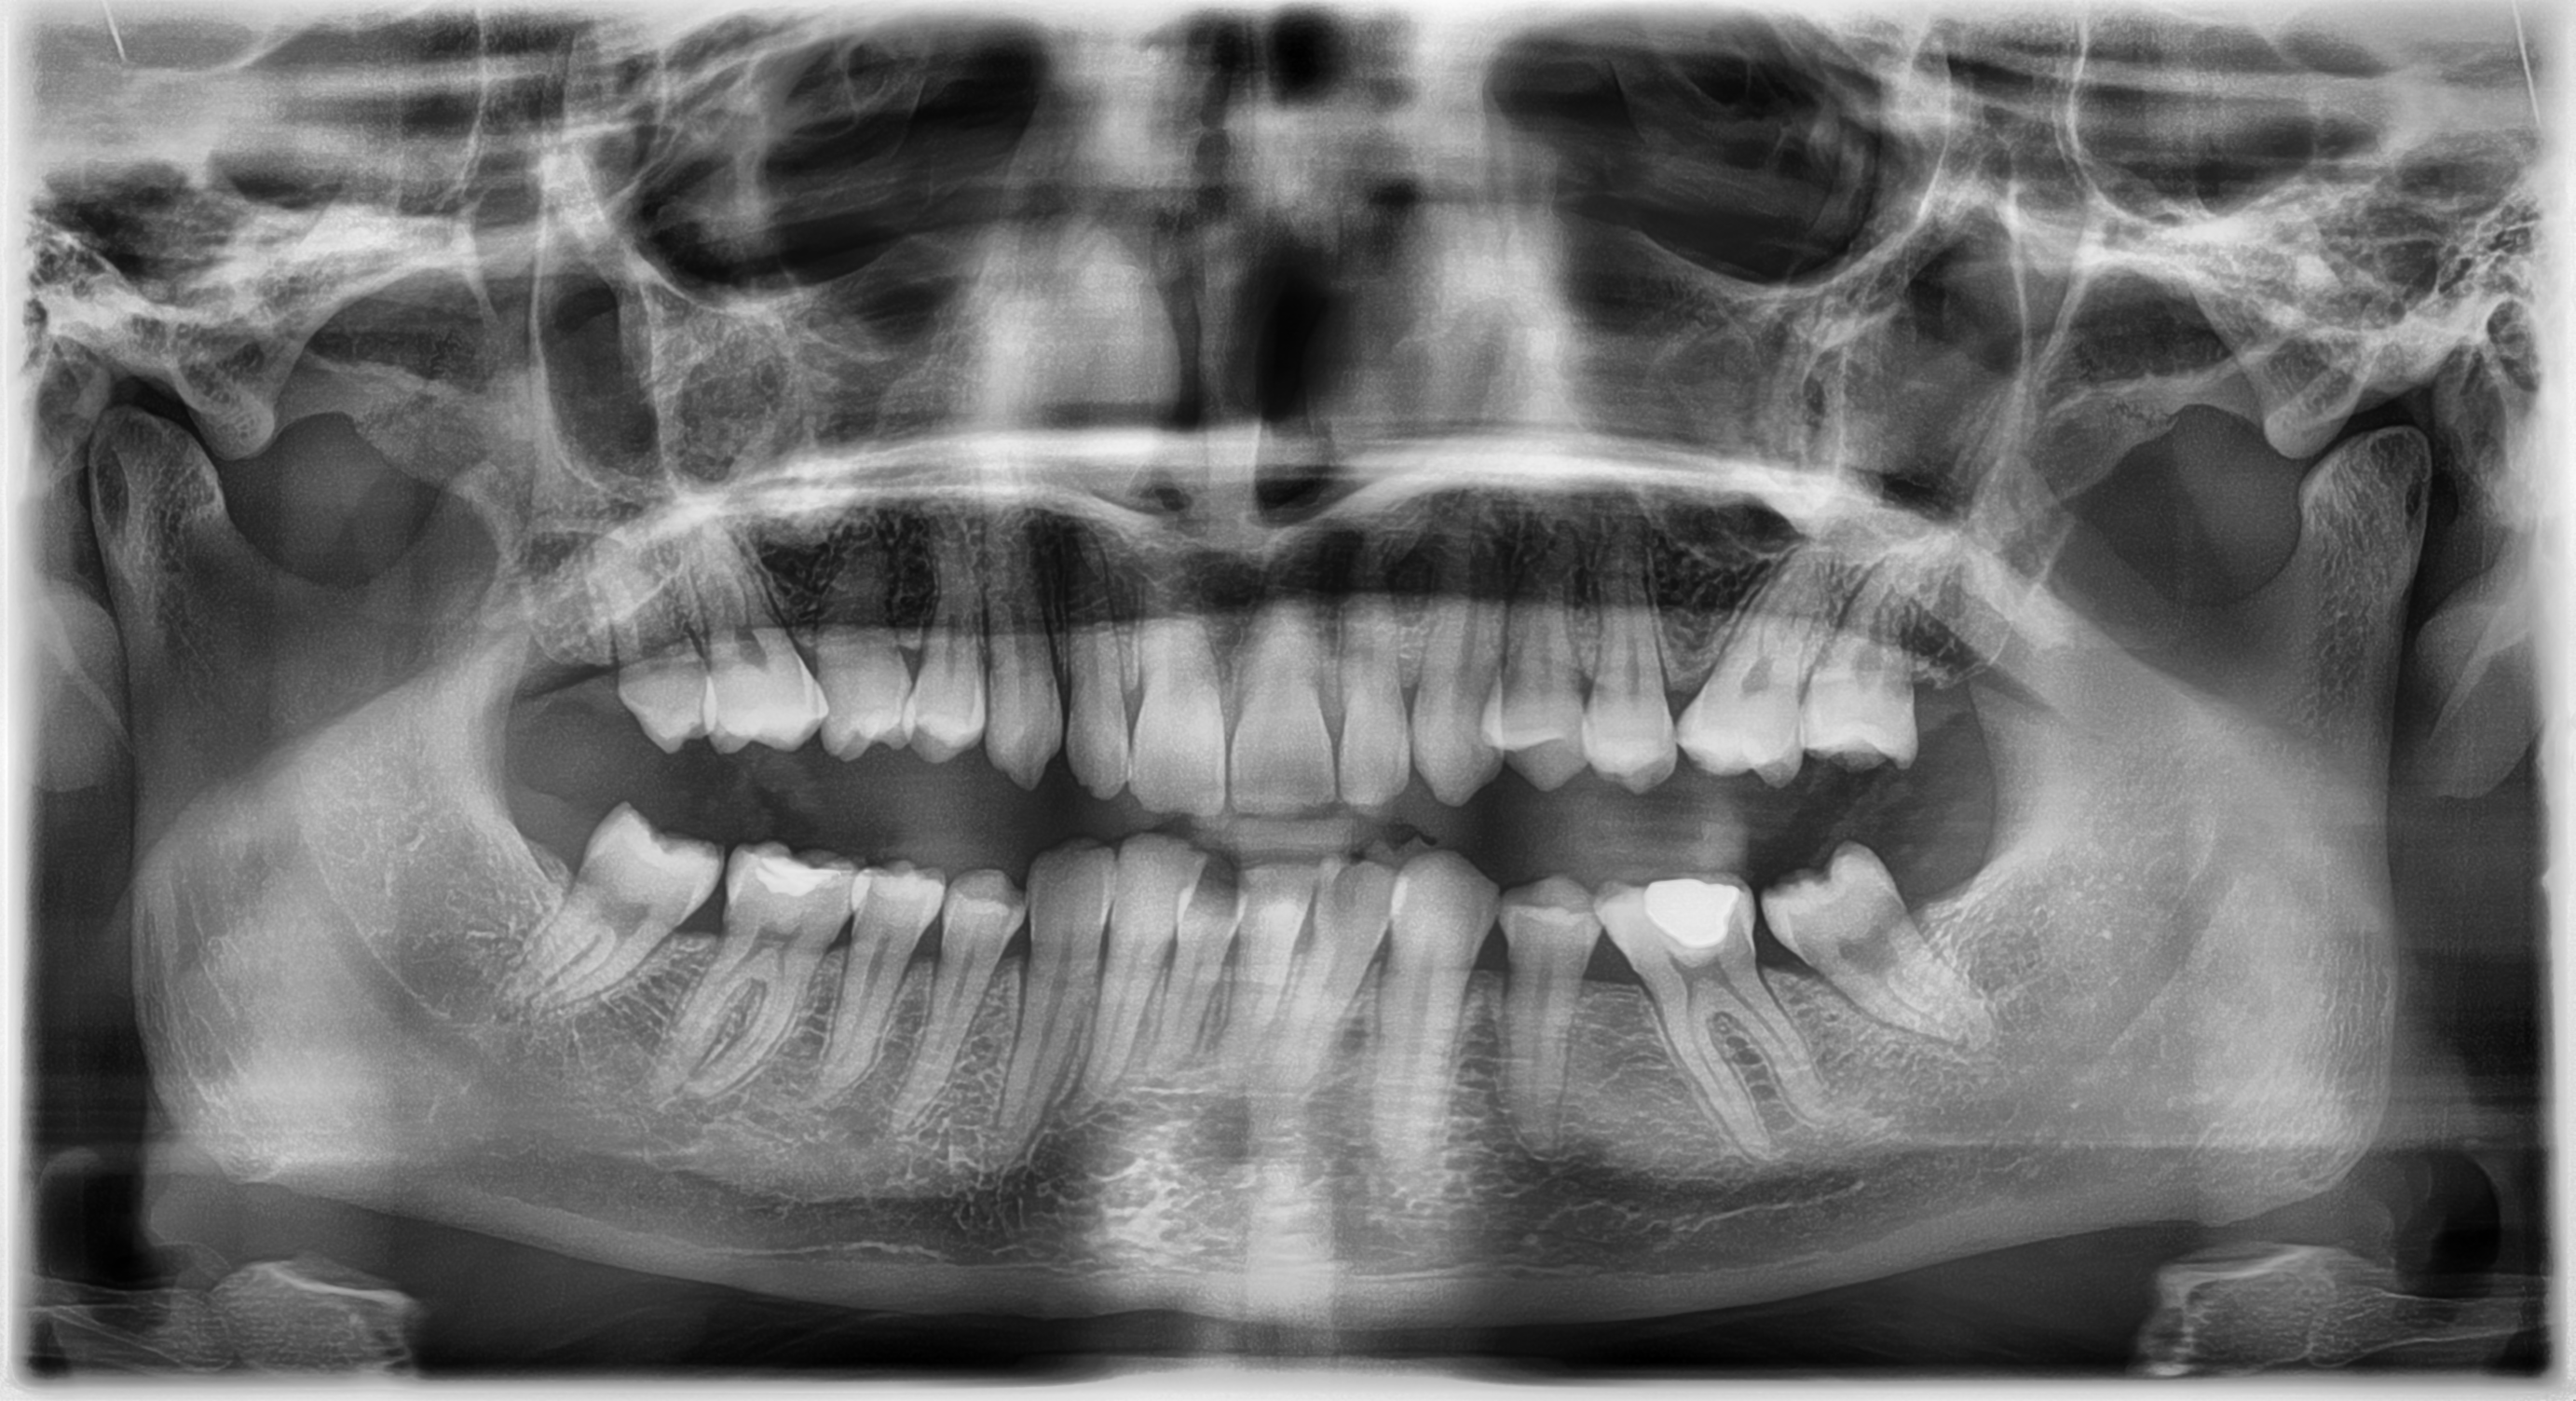apinamiento: (1087, 835, 1430, 968)
